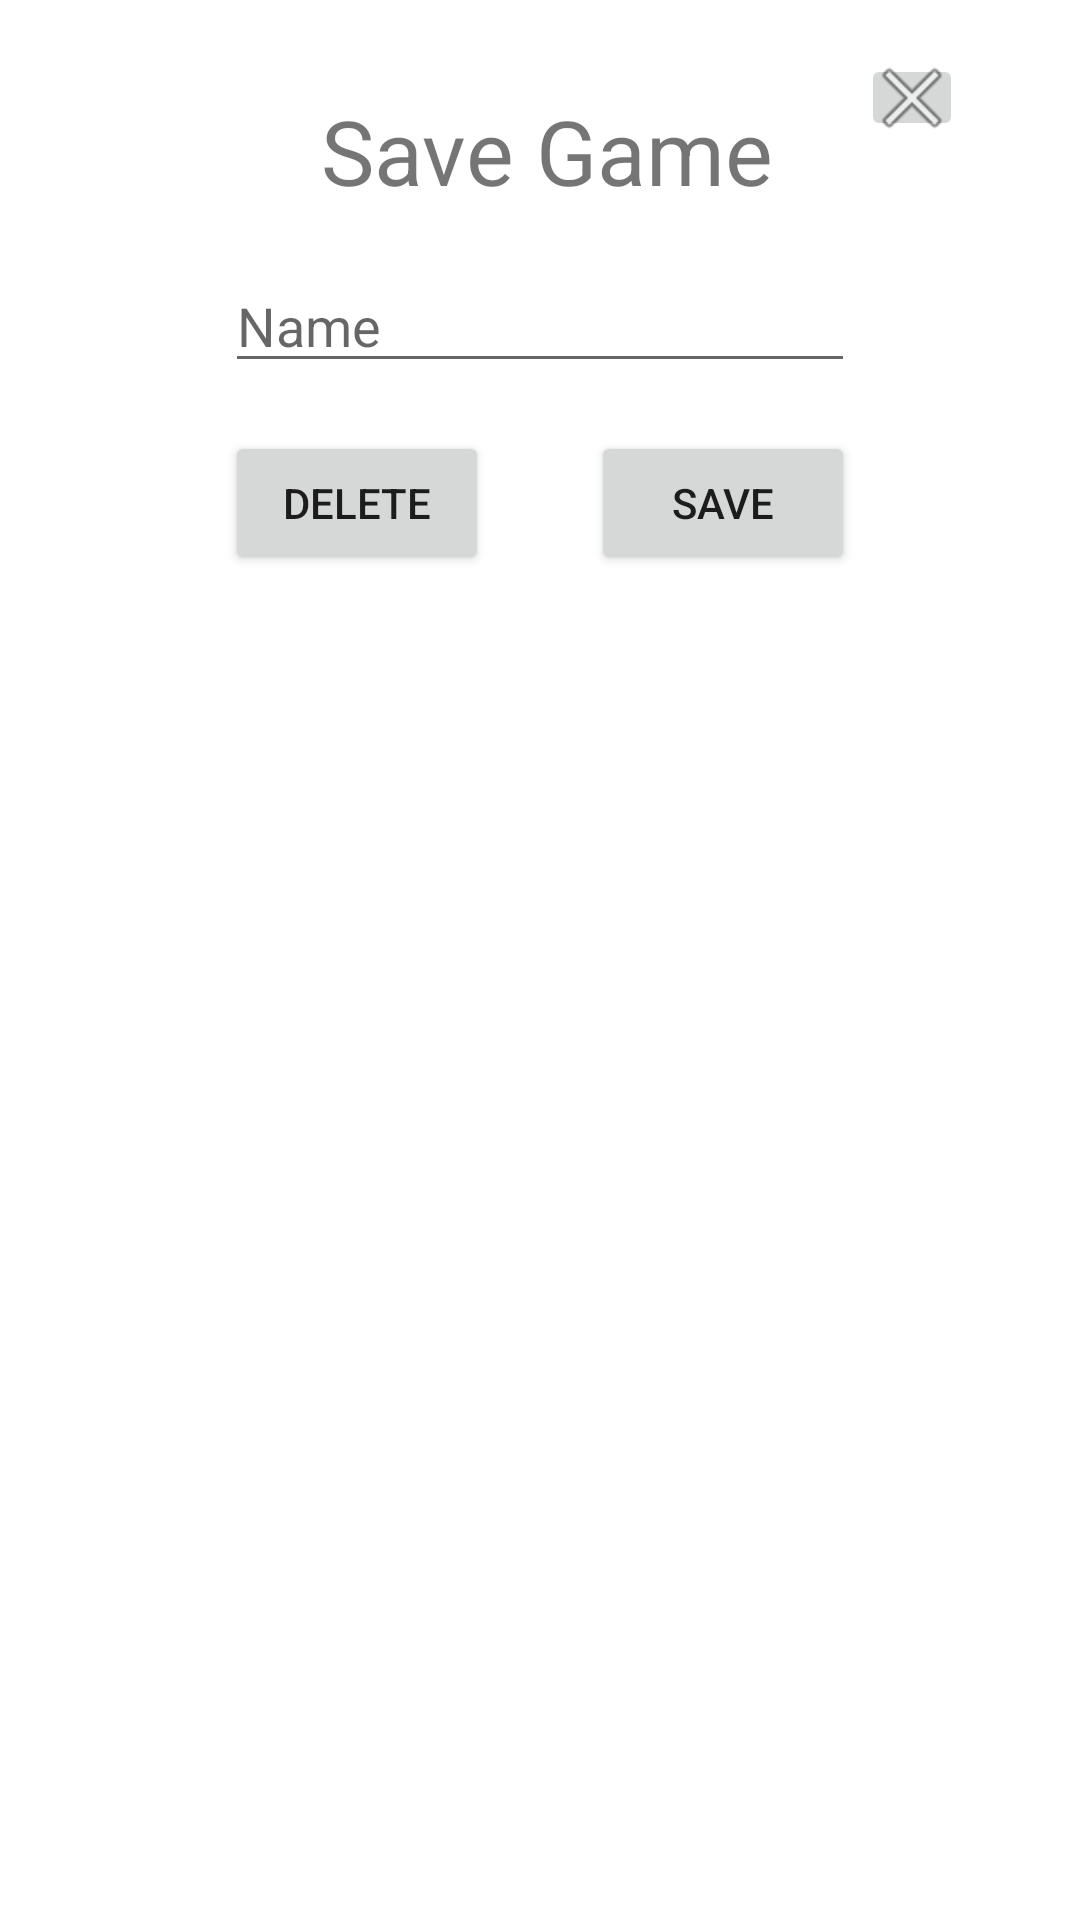

Screen size 1080 x 1920. Icon name, then its box in pixels as (x1, y1, x2, y2):
close clear cancel: (873, 68, 951, 128)
